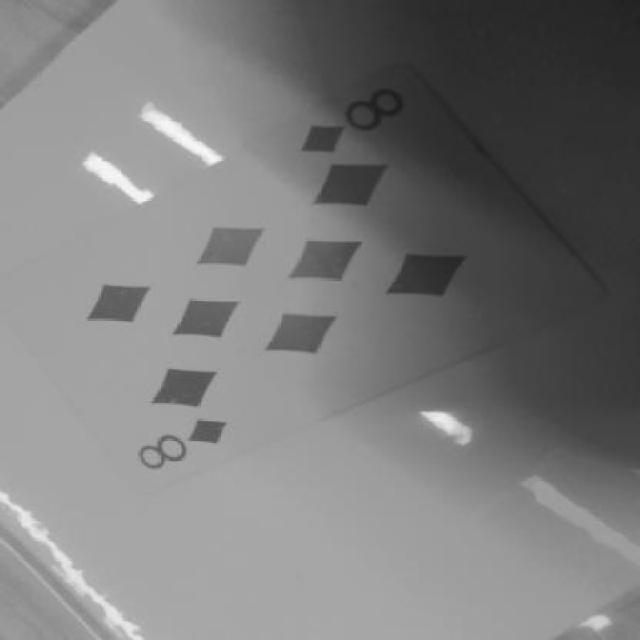8D: (280, 89, 428, 174), (127, 398, 262, 488)
